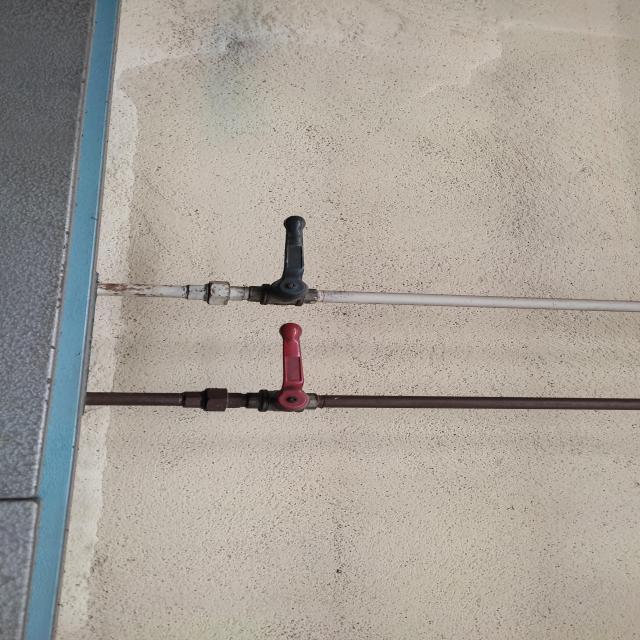closed_valve: (248, 215, 320, 308), (255, 322, 320, 413)
